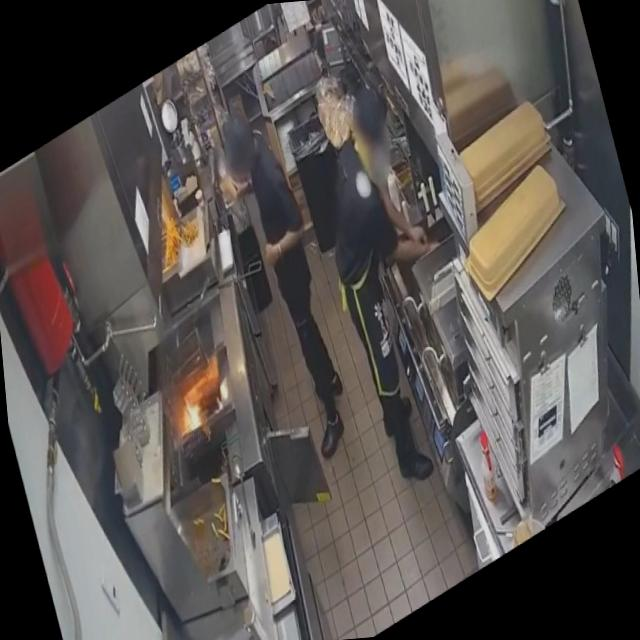fire: (142, 314, 248, 473)
